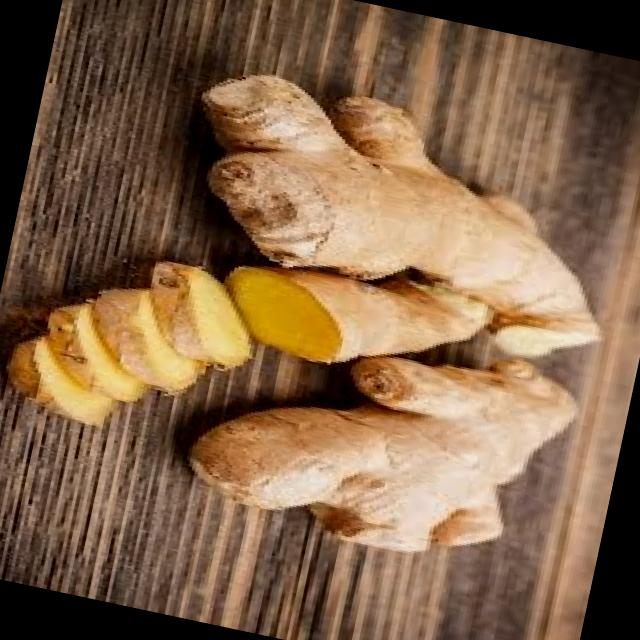ginger-root: (156, 344, 590, 589)
